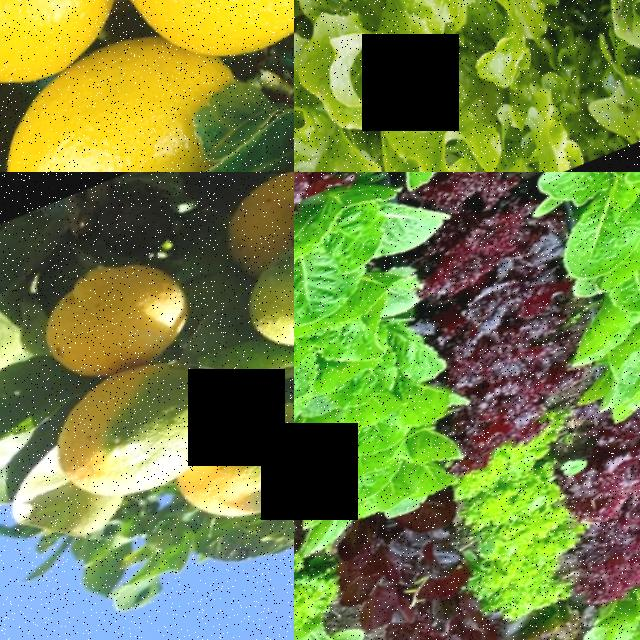lemon: (40, 346, 232, 518), (0, 36, 210, 172), (29, 242, 201, 399), (88, 0, 294, 95), (170, 398, 294, 554), (0, 0, 149, 124), (235, 224, 294, 375)
lettuce: (294, 0, 640, 172), (294, 353, 456, 500), (294, 263, 420, 418), (294, 173, 413, 334), (300, 430, 455, 548), (294, 19, 381, 172), (534, 172, 640, 295), (452, 449, 561, 547), (469, 516, 582, 608), (583, 289, 640, 430), (294, 543, 342, 640), (577, 579, 640, 640), (388, 172, 579, 184)
